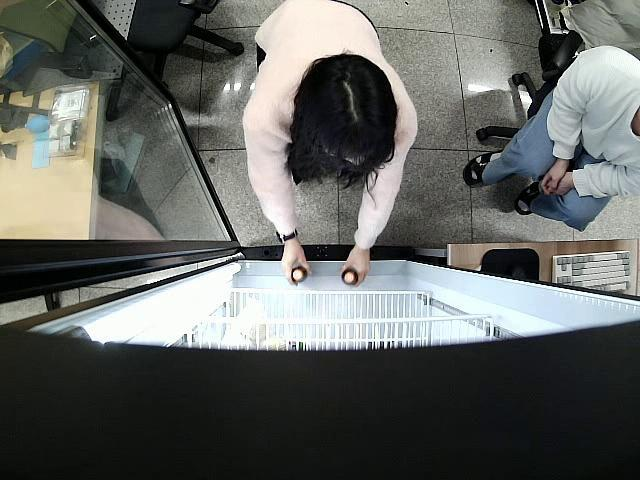17_vita500: (340, 266, 360, 286), (289, 266, 308, 286)
